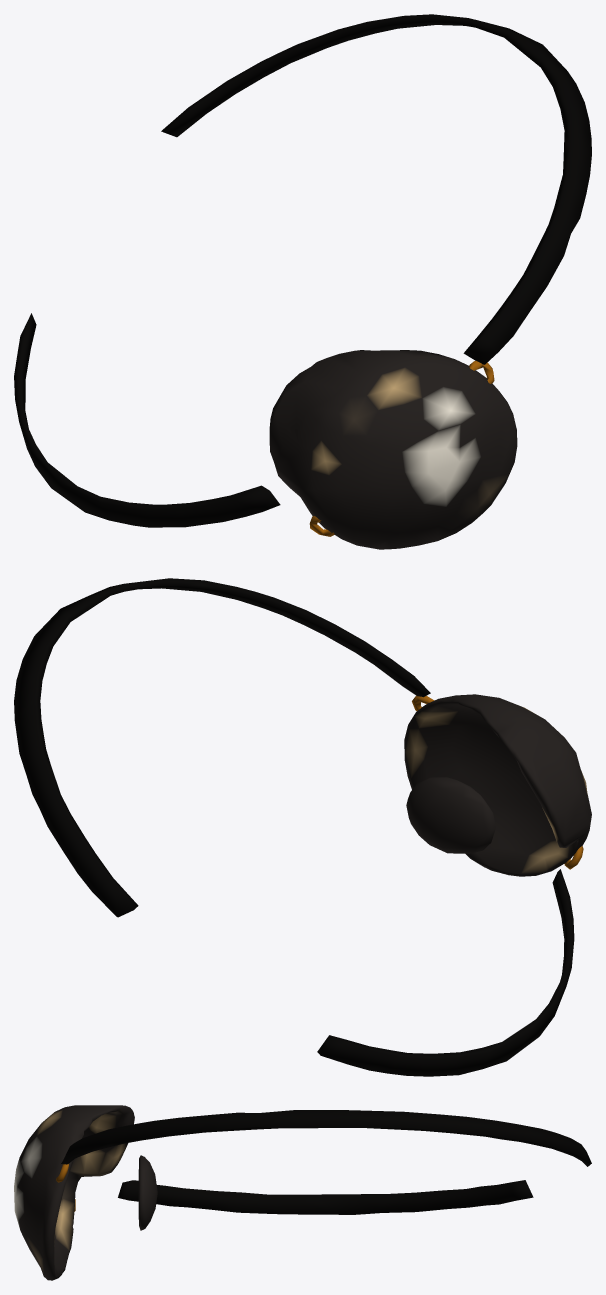
The model's file is bitmat.glb.
3 renders of one model, top to bottom at view 1: azimuth 30°, elevation 25°; view 2: azimuth 150°, elevation 25°; view 3: azimuth 270°, elevation 25°, orthographic. The views are drawn at different scales.
Visible parts, largest first — view 1: Mieng_Da, Day_Bit; view 2: Mieng_Da, Day_Bit; view 3: Day_Bit, Mieng_Da.
Part boxes in pixels (left/top/right/bottom): Mieng_Da: left=269, top=350, right=517, bottom=549; Day_Bit: left=14, top=14, right=591, bottom=527; Mieng_Da: left=404, top=694, right=591, bottom=876; Day_Bit: left=14, top=578, right=574, bottom=1076; Day_Bit: left=61, top=1110, right=591, bottom=1214; Mieng_Da: left=14, top=1105, right=157, bottom=1280.
Bounding box in the file's own units: 0.1943 × 0.1333 × 0.2382.
